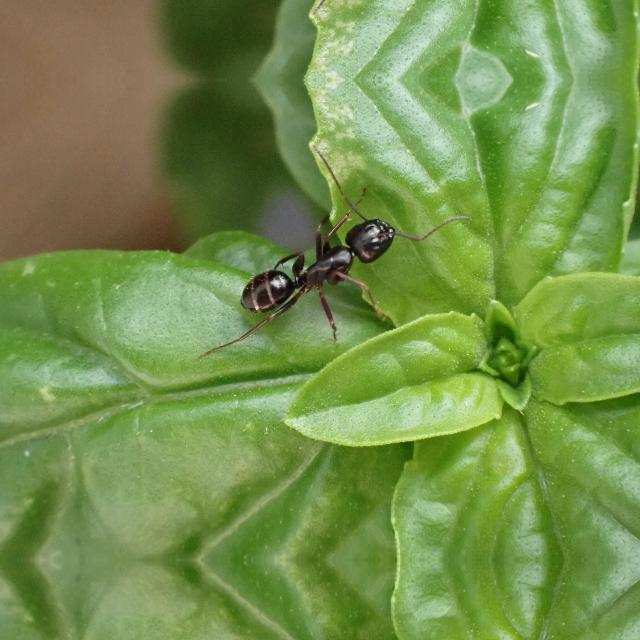Camponotus: (220, 192, 436, 340)
